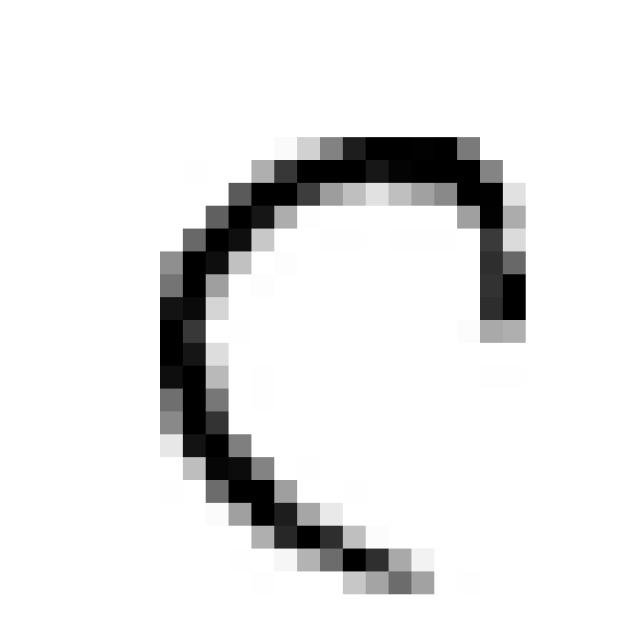2 -two-: (135, 110, 554, 616)
